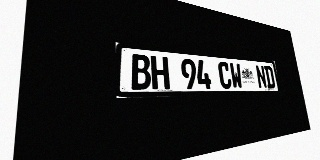4: (195, 59, 212, 89)
9: (180, 58, 198, 89)
B: (130, 54, 151, 90)
C: (217, 61, 232, 89)
D: (264, 66, 276, 88)
H: (150, 55, 170, 89)
N: (255, 65, 267, 88)
W: (229, 62, 243, 89)
